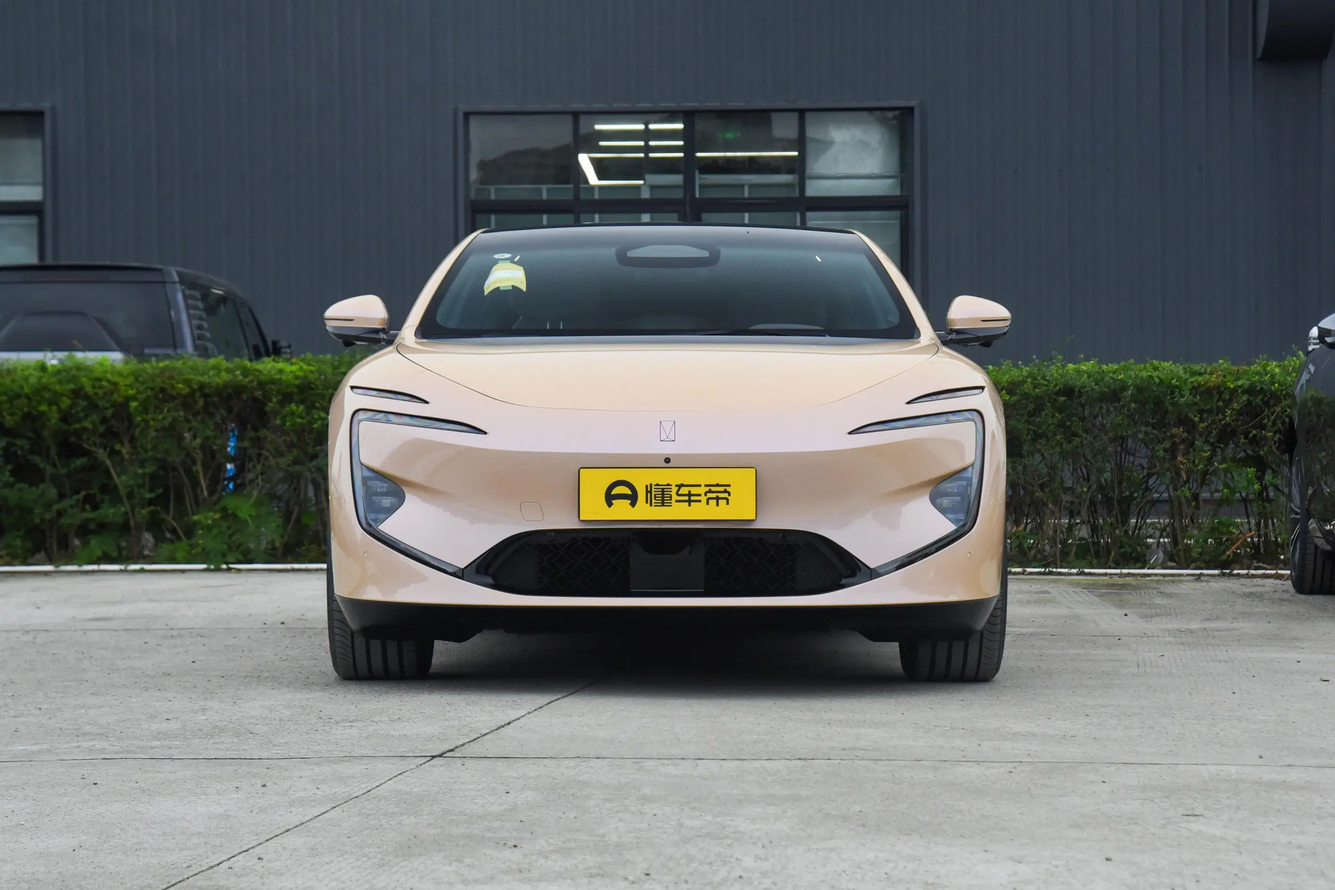AVATR: (660, 421, 675, 441)
